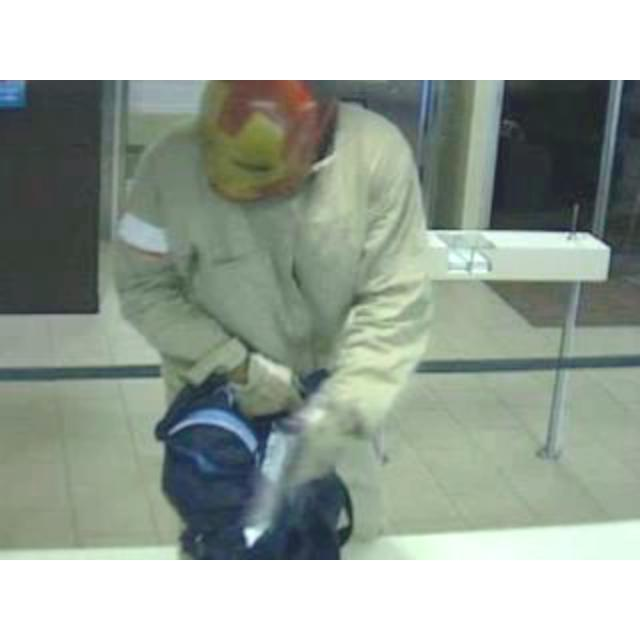criminal: (114, 80, 432, 560)
weapon: (244, 416, 306, 532)
